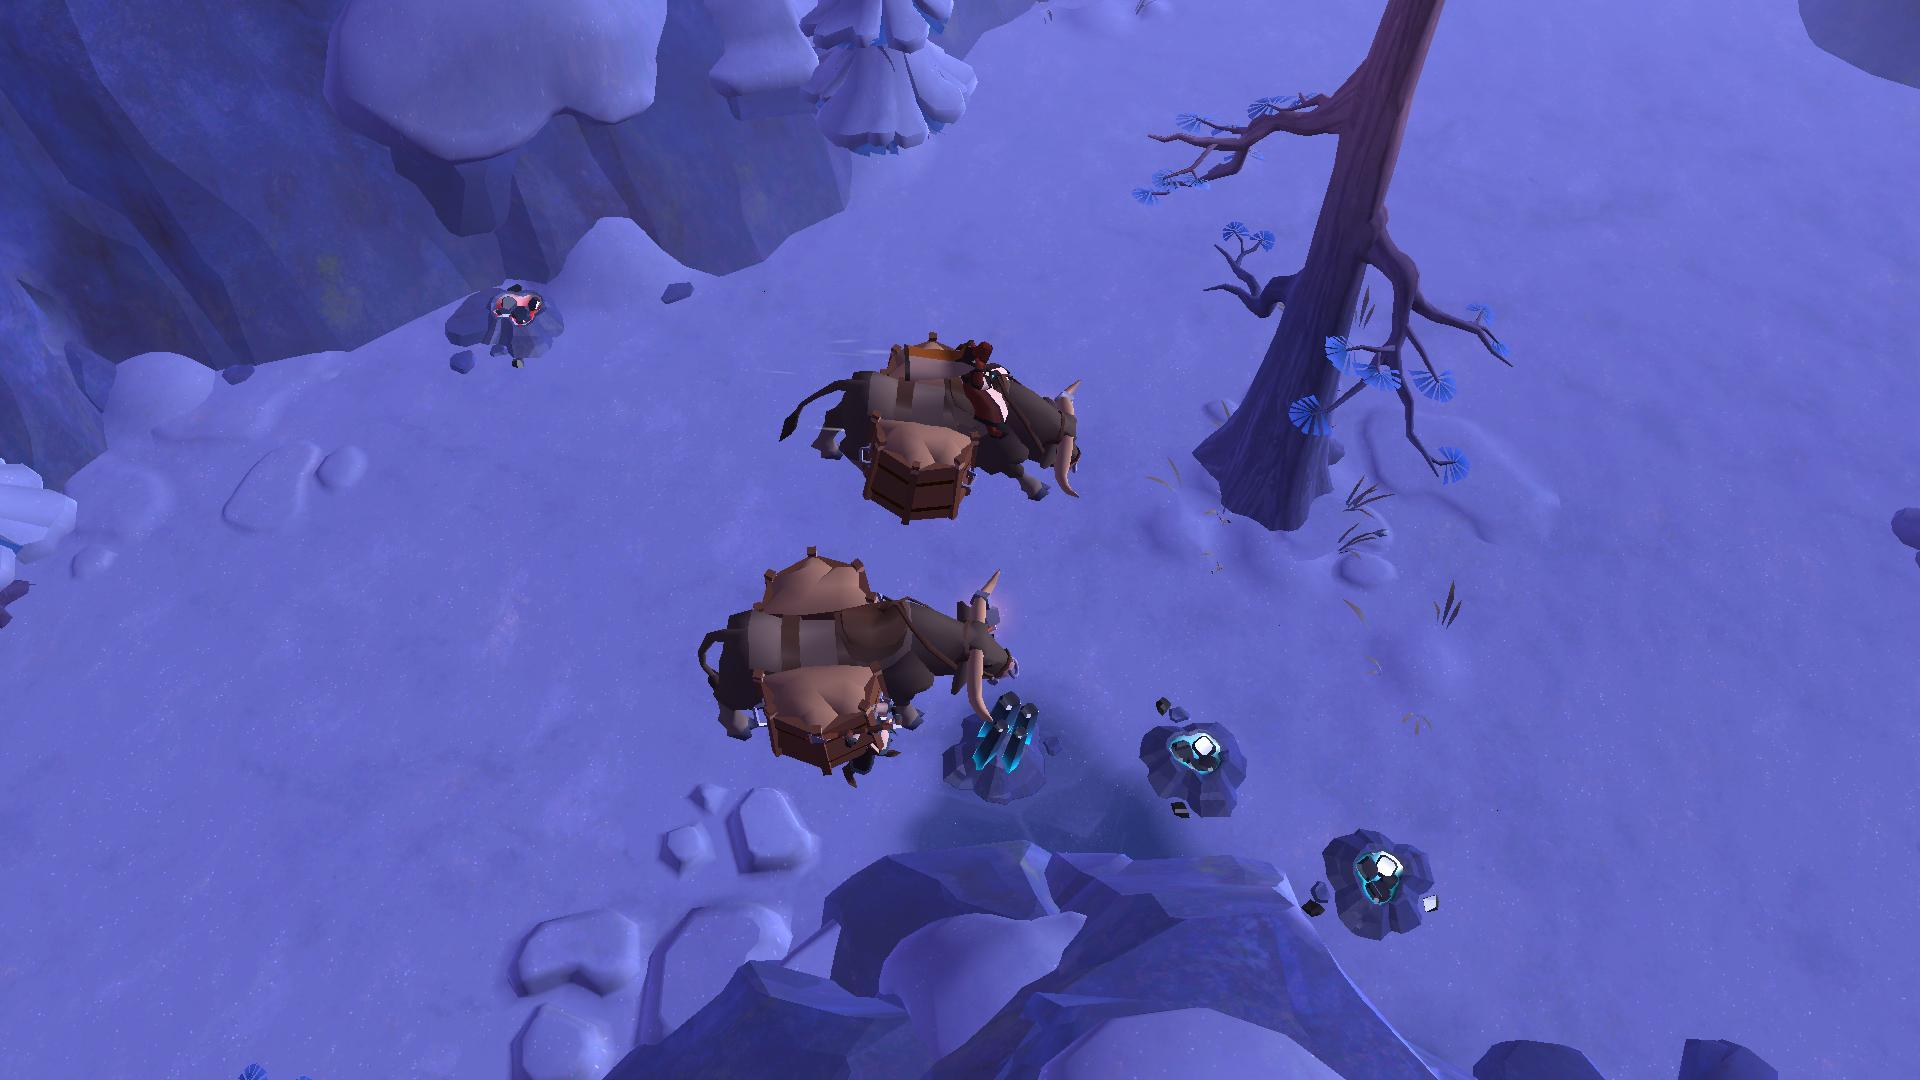ore_t4: (971, 687, 1040, 779)
